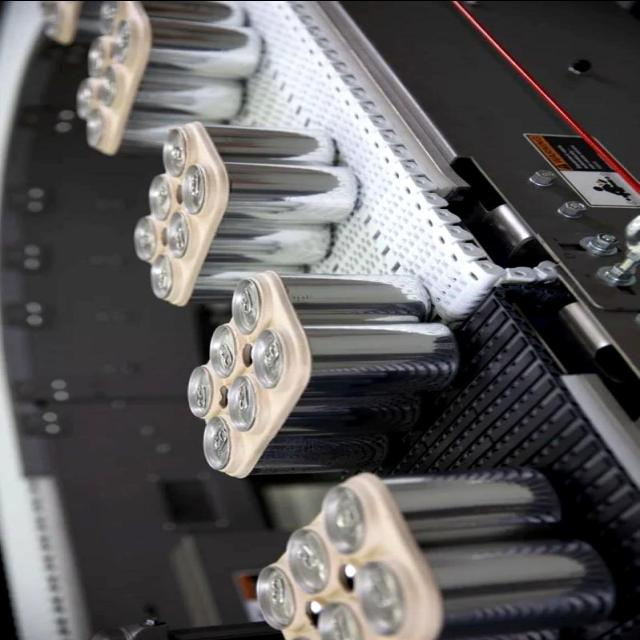bottle: (252, 465, 618, 640), (185, 268, 462, 478), (132, 120, 360, 306), (73, 1, 265, 156)
